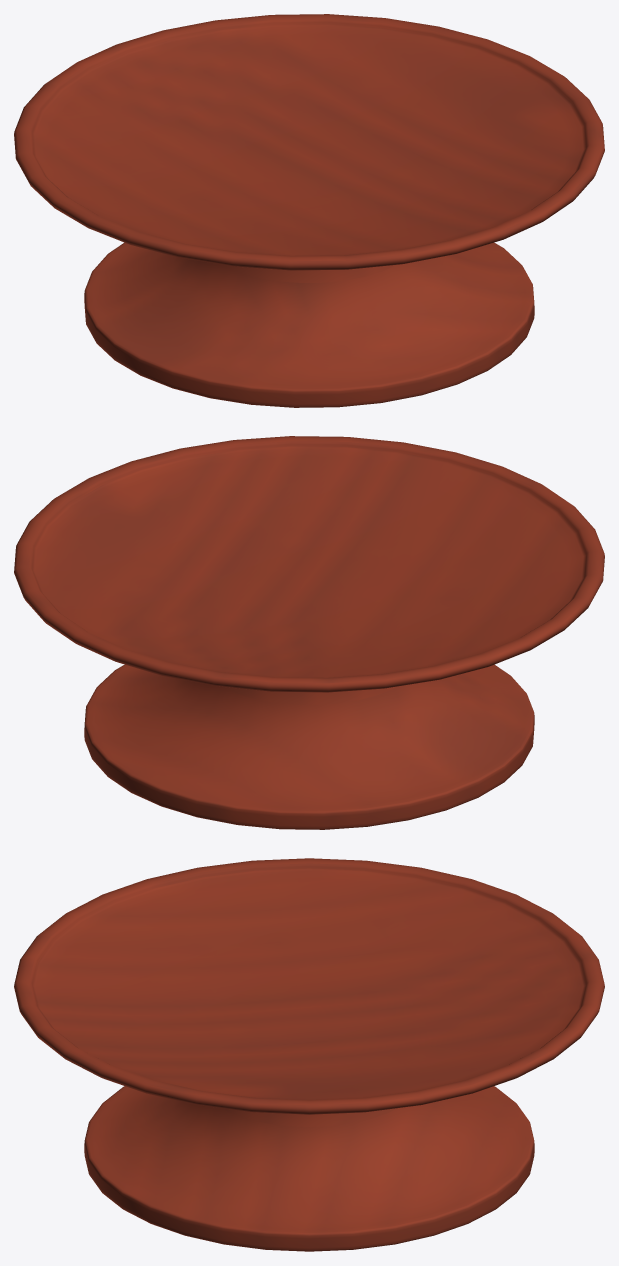
Rendered from boul_01.fbx.
The picture shows the model from 3 angles, top to bottom: view 1: azimuth 30°, elevation 25°; view 2: azimuth 150°, elevation 25°; view 3: azimuth 270°, elevation 25°; orthographic projection.
Visible parts, largest first — view 1: Cylinder.144; view 2: Cylinder.144; view 3: Cylinder.144.
Boxes of the visible parts, bbox=[...] form: Cylinder.144: bbox=[14, 14, 604, 407]; Cylinder.144: bbox=[14, 436, 604, 829]; Cylinder.144: bbox=[14, 858, 604, 1251].
Bounding box in the file's own units: 15.1 × 4.97 × 15.1.
